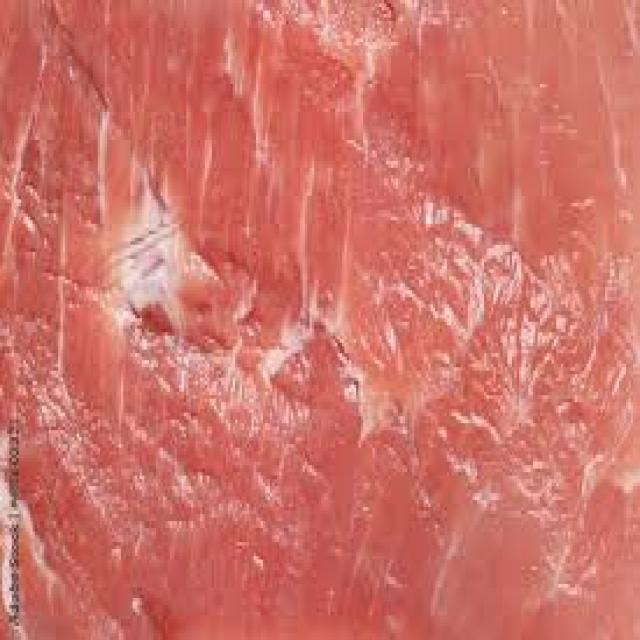Pork: (0, 1, 640, 638)
